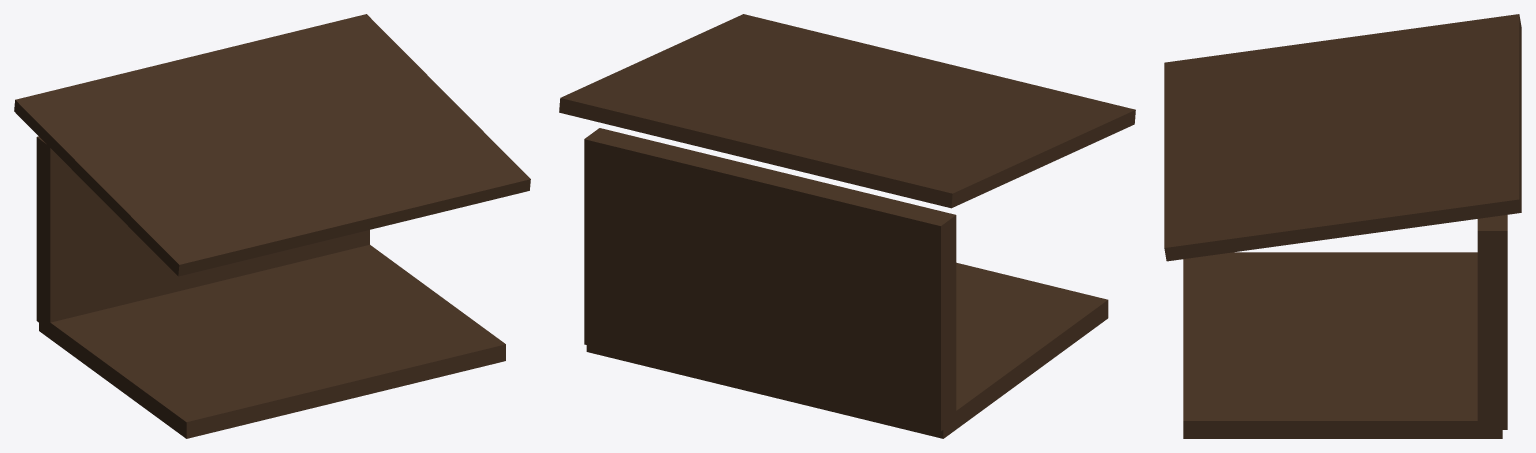
The model's file is cabin_shelter.glb.
3 views of the same model, side by side, from view 1: azimuth 30°, elevation 25°; view 2: azimuth 150°, elevation 25°; view 3: azimuth 270°, elevation 25° (orthographic). The views are drawn at different scales.
Visible parts, largest first — view 1: CabinShelter; view 2: CabinShelter; view 3: CabinShelter.
Boxes of the visible parts, <box> form: CabinShelter: <box>14,14,530,438</box>; CabinShelter: <box>559,14,1135,438</box>; CabinShelter: <box>1164,14,1521,438</box>.
Bounding box in the file's own units: 4.4 × 2.74 × 3.58.
